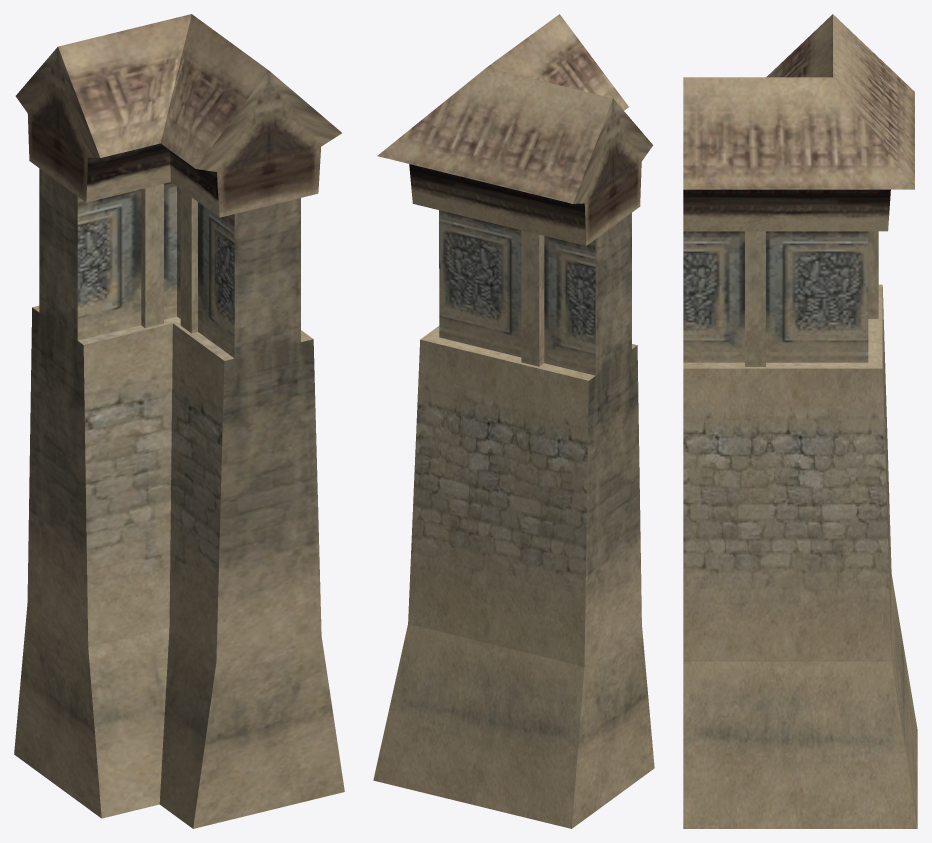
File: desert-middledam-05_lod_01.fbx
3 views of the same model, side by side, from view 1: azimuth 30°, elevation 25°; view 2: azimuth 150°, elevation 25°; view 3: azimuth 270°, elevation 25° (orthographic). The views are drawn at different scales.
Parts seen in each view (by area): view 1: desert-middledam-02; view 2: desert-middledam-02; view 3: desert-middledam-02.
Boxes of the visible parts, x1=… form: desert-middledam-02: x1=14, y1=14, x2=344, y2=828; desert-middledam-02: x1=373, y1=14, x2=654, y2=828; desert-middledam-02: x1=683, y1=14, x2=917, y2=828.
Size of the model in its own units: 2.35 by 7.92 by 2.35.
